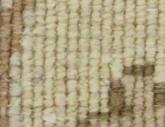Knot: (64, 69, 78, 79), (86, 104, 99, 114), (99, 77, 110, 86), (98, 69, 110, 77), (106, 119, 118, 126), (42, 119, 53, 126), (54, 121, 64, 126)
